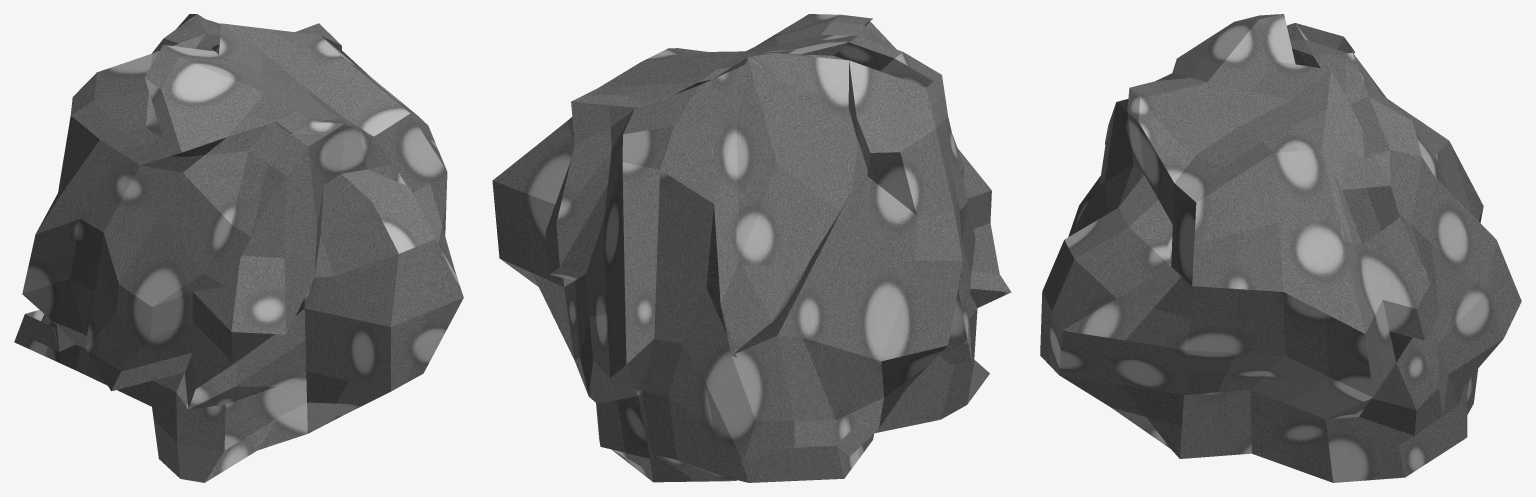
Rendered from Meteor.obj.
3 views of the same model, side by side, from view 1: azimuth 30°, elevation 25°; view 2: azimuth 150°, elevation 25°; view 3: azimuth 270°, elevation 25° (orthographic). The views are drawn at different scales.
Parts seen in each view (by area): view 1: Cube_Cube.001; view 2: Cube_Cube.001; view 3: Cube_Cube.001.
Boxes of the visible parts, x1,y1,x2,y2 form: Cube_Cube.001: (14, 14, 463, 482); Cube_Cube.001: (492, 14, 1011, 482); Cube_Cube.001: (1040, 14, 1521, 482).
Bounding box in the file's own units: 5.85 × 5.13 × 5.85.
Materials: 1 (1 with a texture image).
